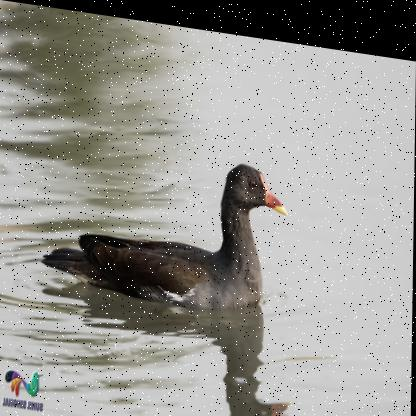Burung: (42, 132, 288, 314)
